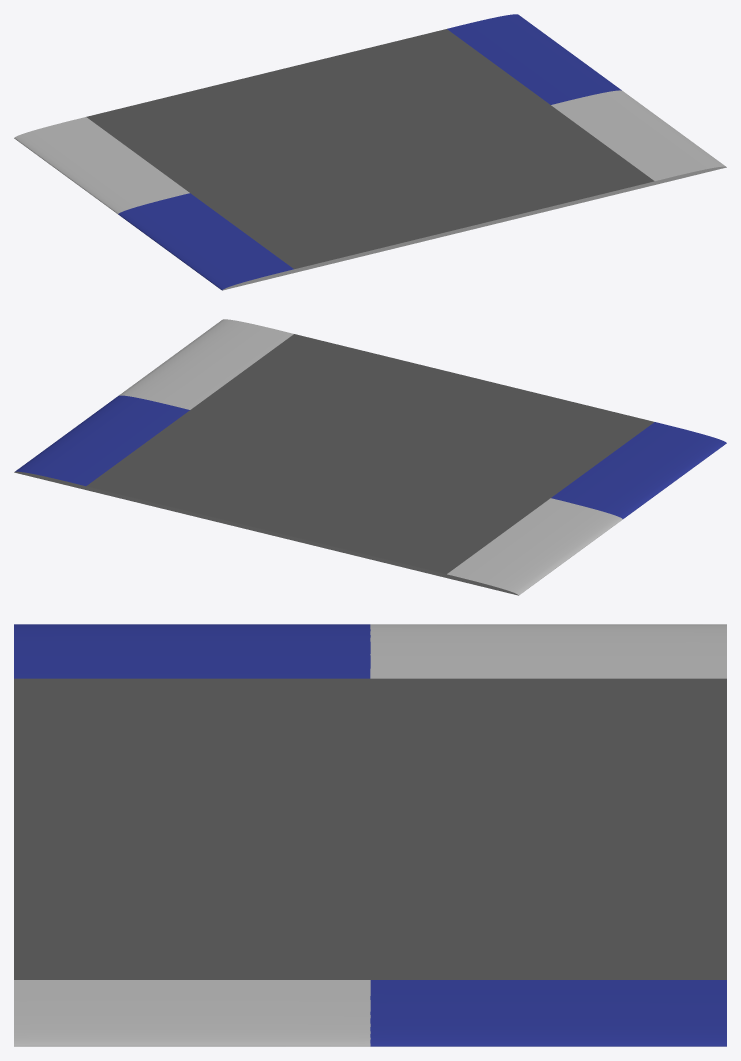
The model's file is Droit.fbx.
3 views of the same model, one above another, from view 1: azimuth 30°, elevation 25°; view 2: azimuth 150°, elevation 25°; view 3: azimuth 270°, elevation 25° (orthographic). The views are drawn at different scales.
Parts seen in each view (by area): view 1: Body7, Body6; view 2: Body6, Body7; view 3: Body6, Body7.
Part boxes in pixels (left/top/right/bottom): Body7: left=118, top=90, right=726, bottom=290; Body6: left=14, top=14, right=621, bottom=213; Body6: left=14, top=395, right=622, bottom=595; Body7: left=119, top=319, right=726, bottom=518; Body6: left=370, top=624, right=726, bottom=1046; Body7: left=14, top=624, right=370, bottom=1046.
Bounding box in the file's own units: 14 × 0.1021 × 10.
